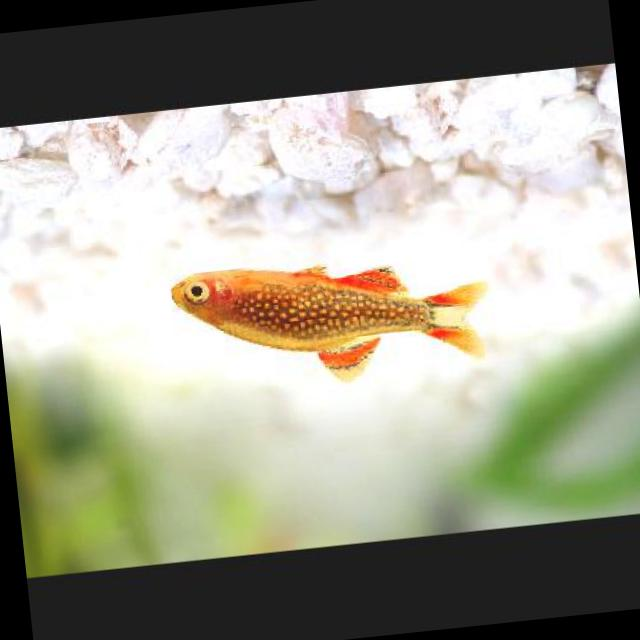ZebraFish: (164, 238, 488, 401)
